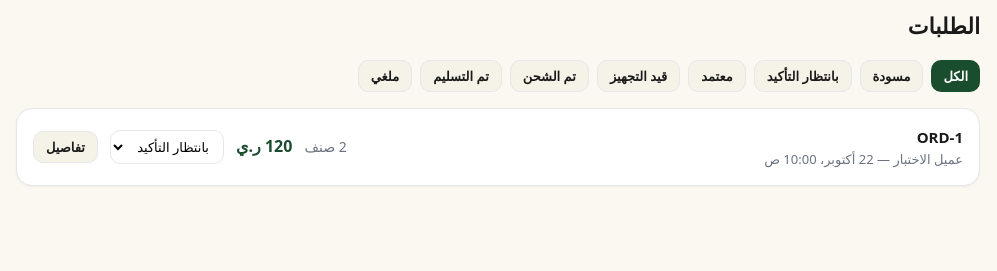
admin order status transition UI › treats an update affecting no visible row as denial instead of success
Select "معتمد" in the dropdown named "حالة الطلب ORD-1" at (167, 147), box [110,130,224,164]
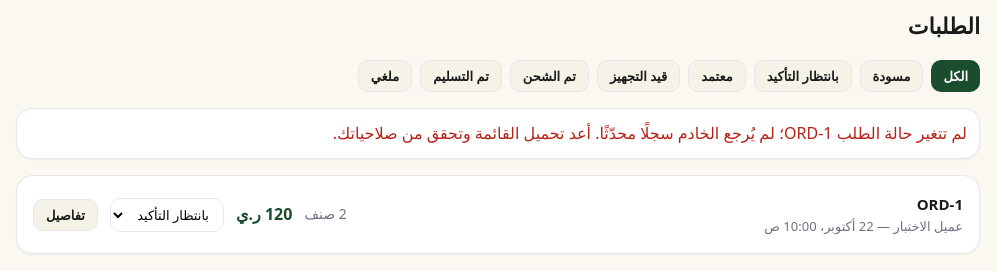
Expected: the message shows "لم يُرجع الخادم سجلًا محدّثًا", [333,122,967,144]
